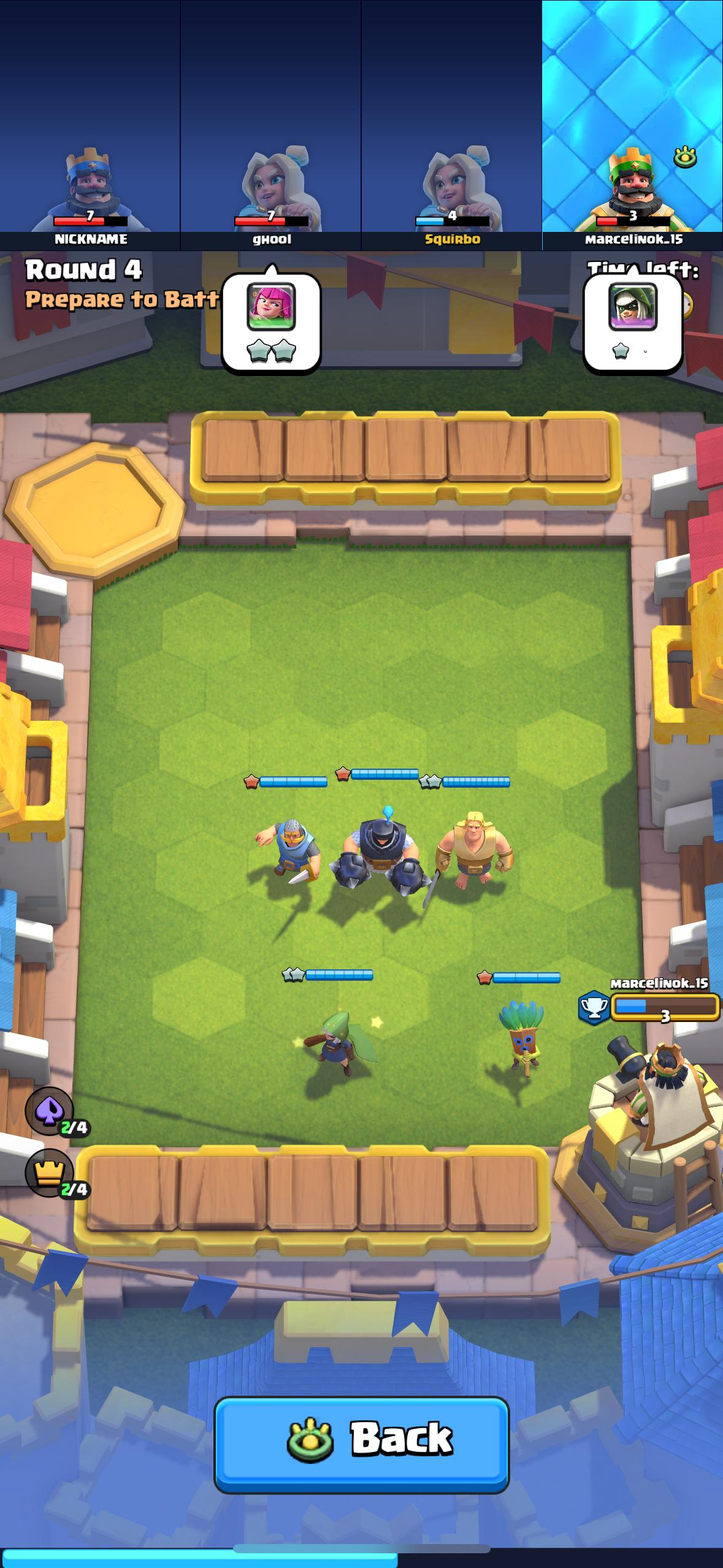bandit: (299, 1001, 373, 1080)
dart: (495, 990, 546, 1077)
golden: (426, 806, 512, 892)
knight: (256, 813, 323, 887)
mega: (330, 809, 431, 901)
